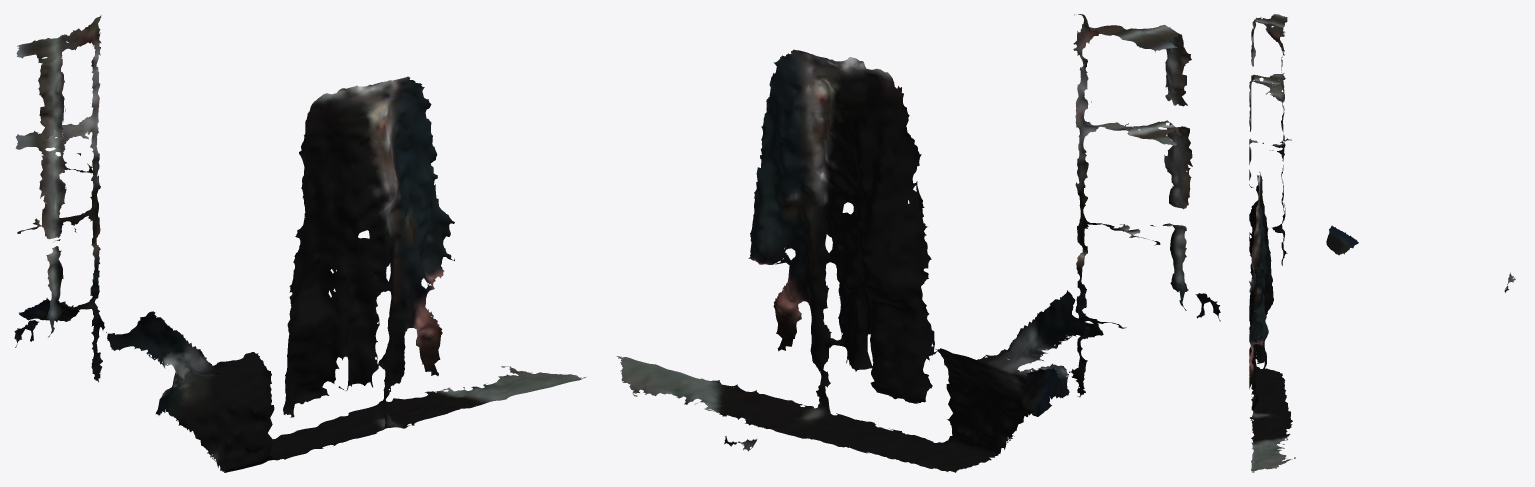
Rendered from color_model_f002_20251226_161539.obj.
3 views of the same model, side by side, from view 1: azimuth 30°, elevation 25°; view 2: azimuth 150°, elevation 25°; view 3: azimuth 270°, elevation 25° (orthographic). The views are drawn at different scales.
Bounding box in the file's own units: 2.12 × 1.66 × 1.35.
